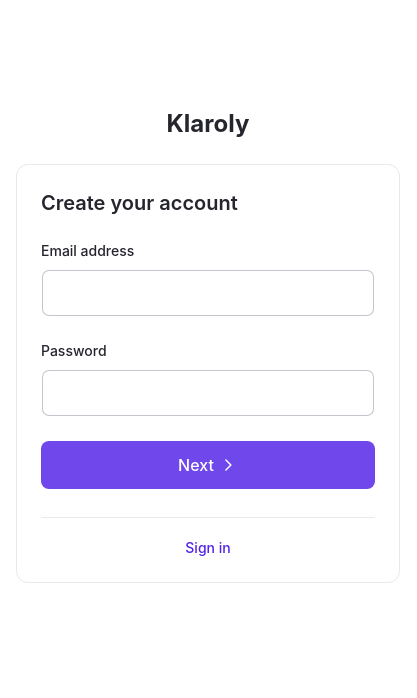
Test: the register screen › goes back to the first step with what was typed still there
The width and height of the screenshot is (417, 698).
Type "ellie@example.com" into the field labelled "Email address" at (208, 292), box [41, 268, 375, 316]
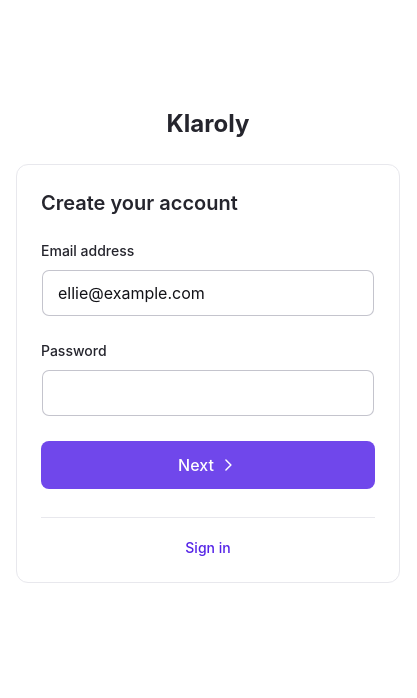
Type "correct-horse-battery" into the password field labelled "Password" at (208, 392), box [41, 368, 375, 416]
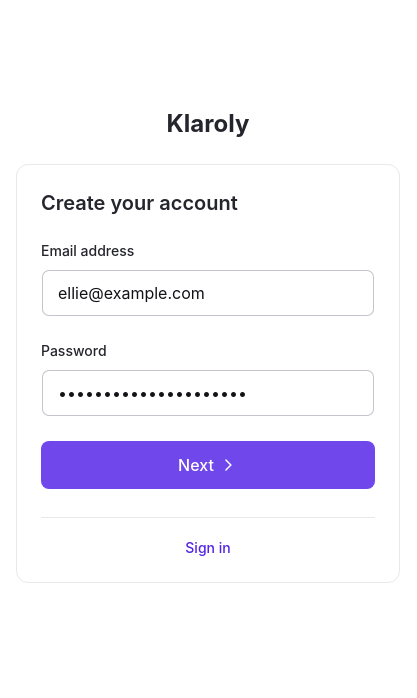
Submit the form, box [41, 240, 375, 488]
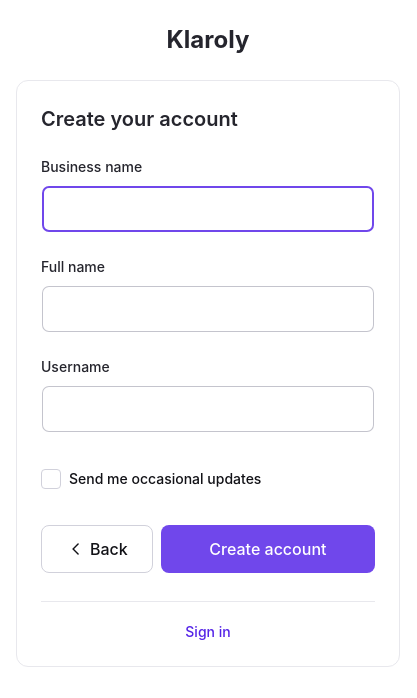
Type "Ellie Marsh Makeup" into the field labelled "Business name" at (208, 208), box [41, 184, 375, 232]
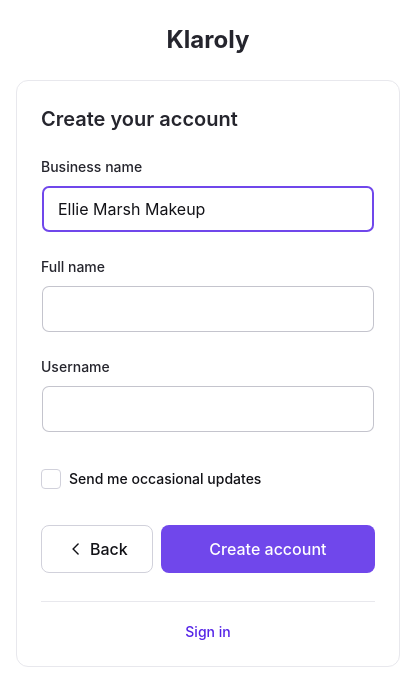
Click the button "Back" at (97, 548), box [41, 524, 153, 572]
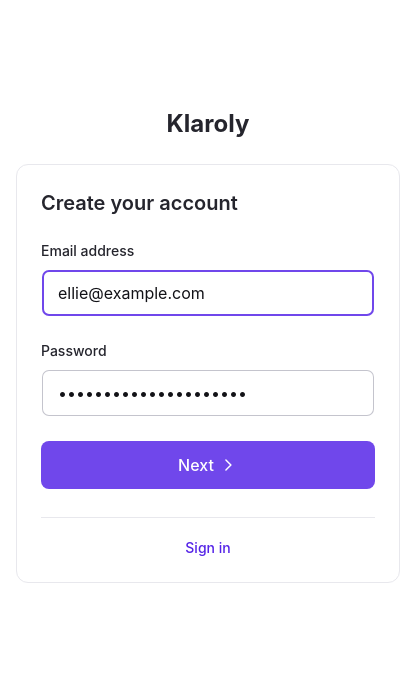
Result: the field labelled "Email address" holds "ellie@example.com" at [41, 268, 375, 316]
Submit the form, box [41, 240, 375, 488]
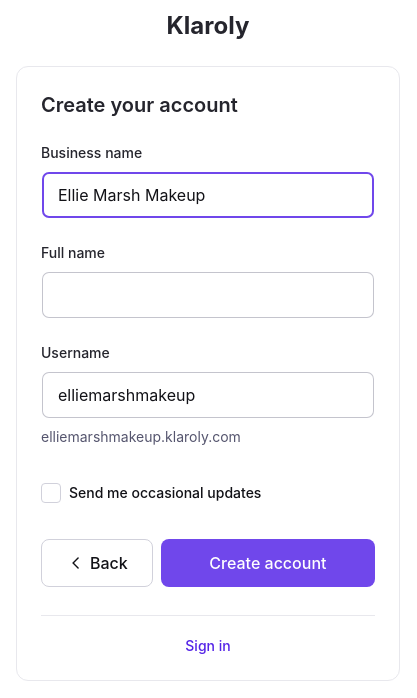
Result: the field labelled "Business name" holds "Ellie Marsh Makeup" at [41, 170, 375, 218]
